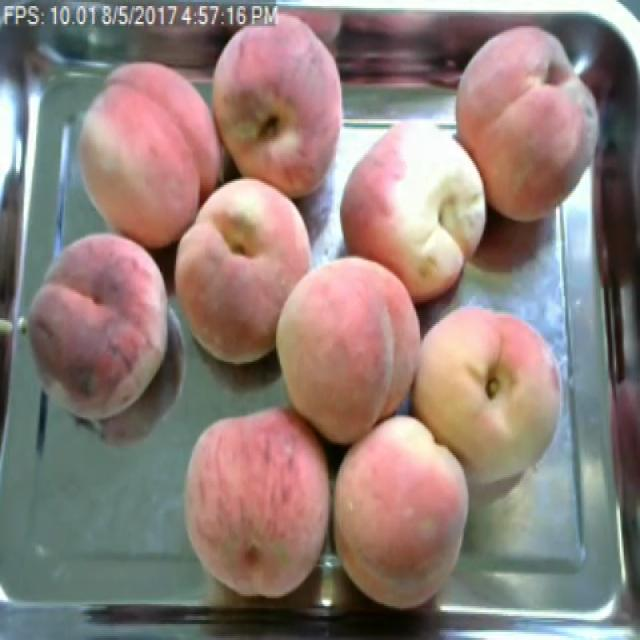Fruit: (12, 221, 189, 441), (440, 12, 613, 236), (171, 398, 345, 608), (260, 241, 425, 459), (69, 52, 240, 260), (400, 294, 576, 493), (166, 165, 326, 380), (323, 402, 481, 618), (331, 117, 504, 314), (203, 6, 353, 213)
